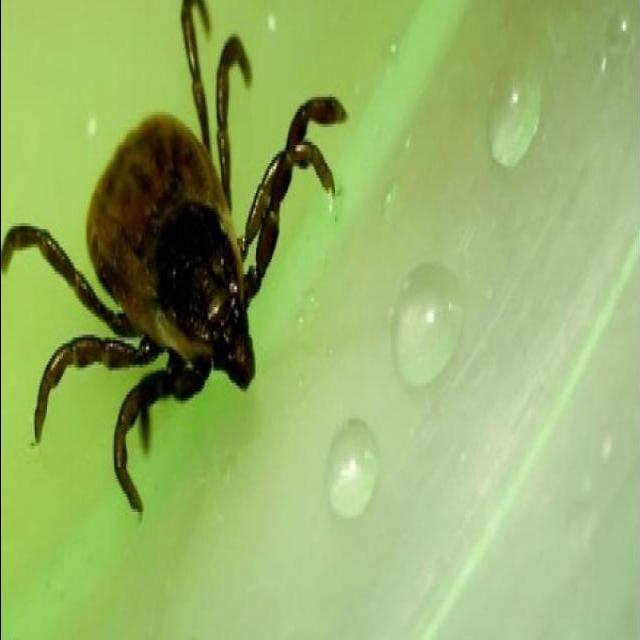Rhipicephalus Sanguineus-F: (0, 0, 349, 518)
